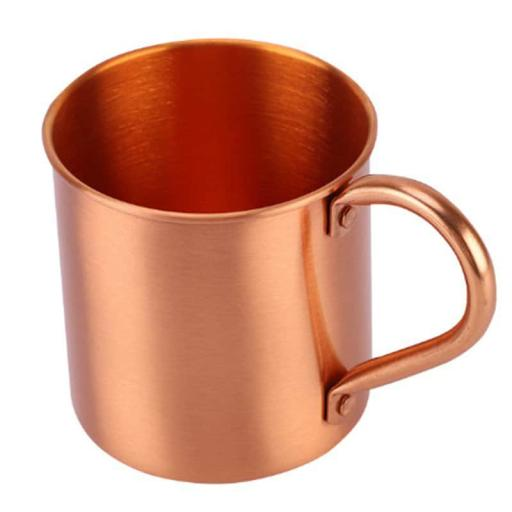cup: (44, 40, 495, 482)
